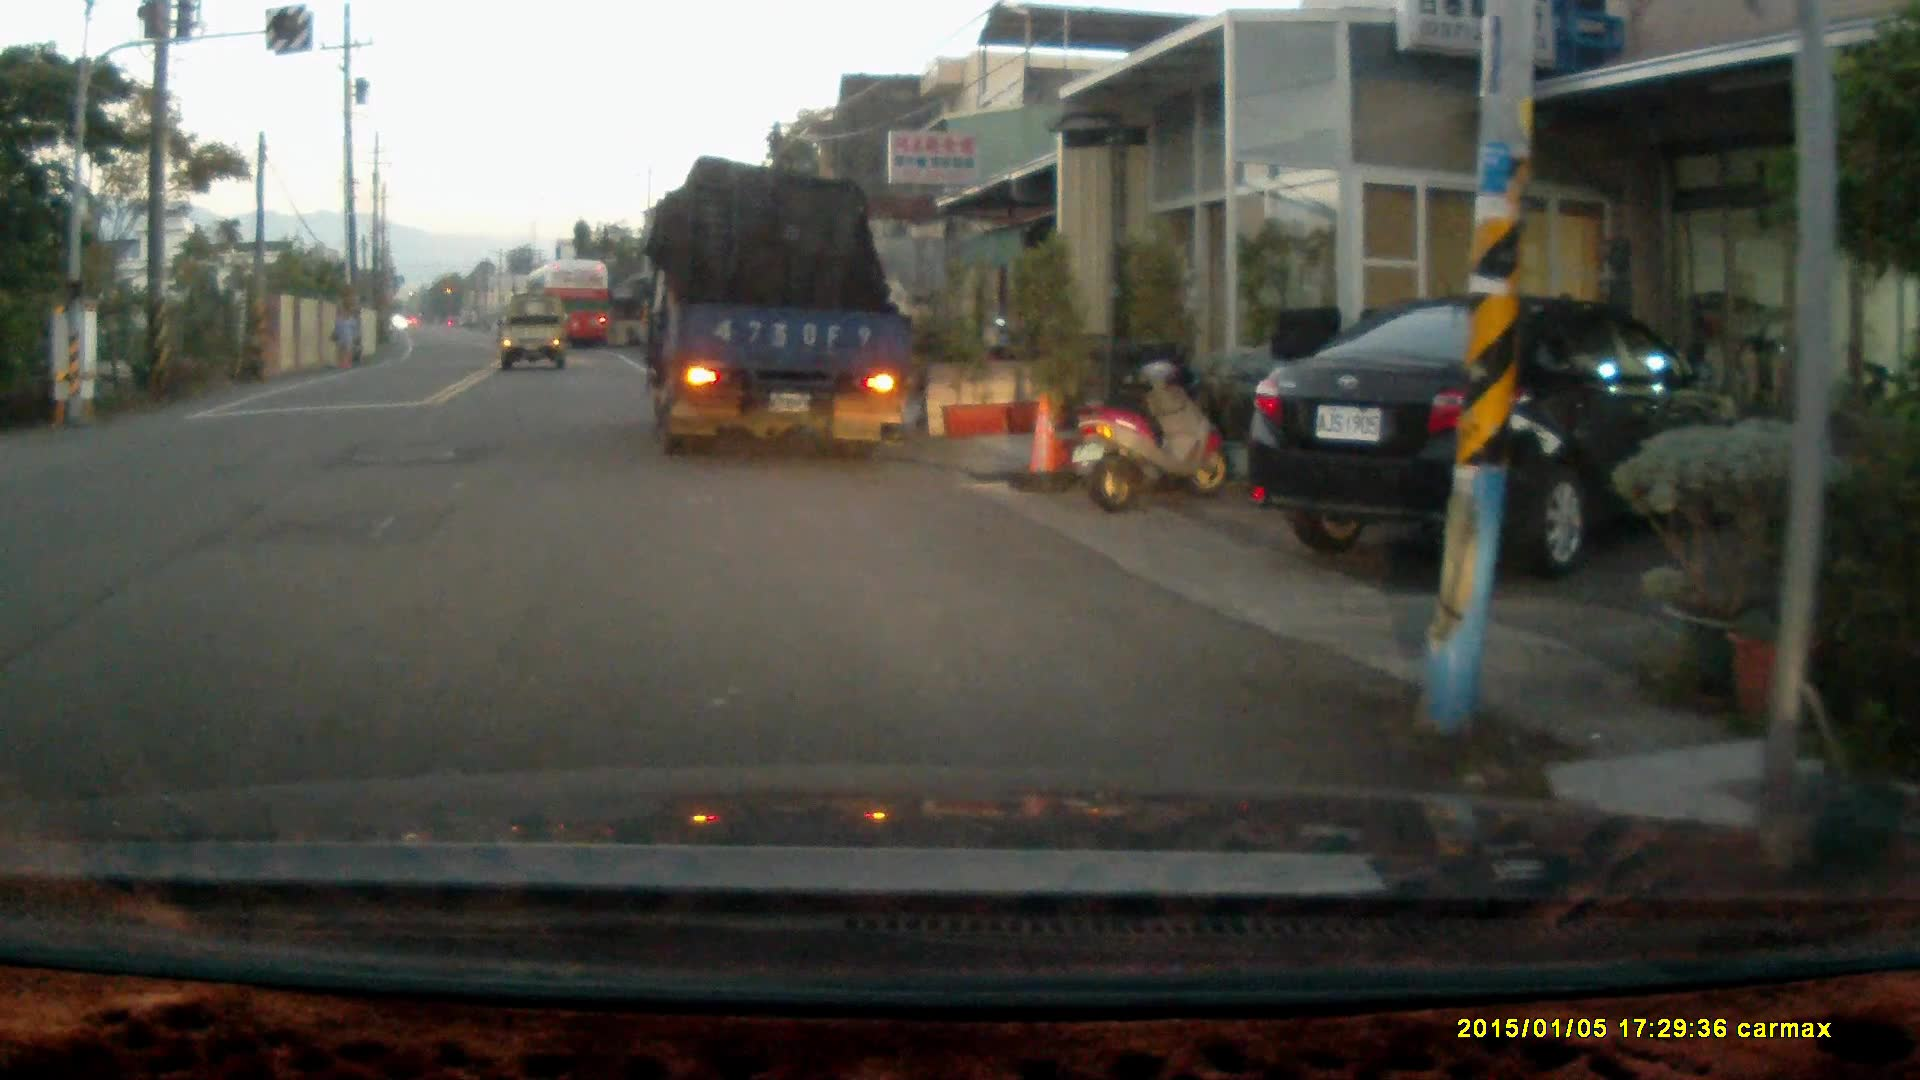pedestrian: (329, 304, 359, 371)
vehicle: (1236, 284, 1750, 576), (645, 162, 928, 450), (524, 259, 618, 355), (498, 296, 571, 372)
